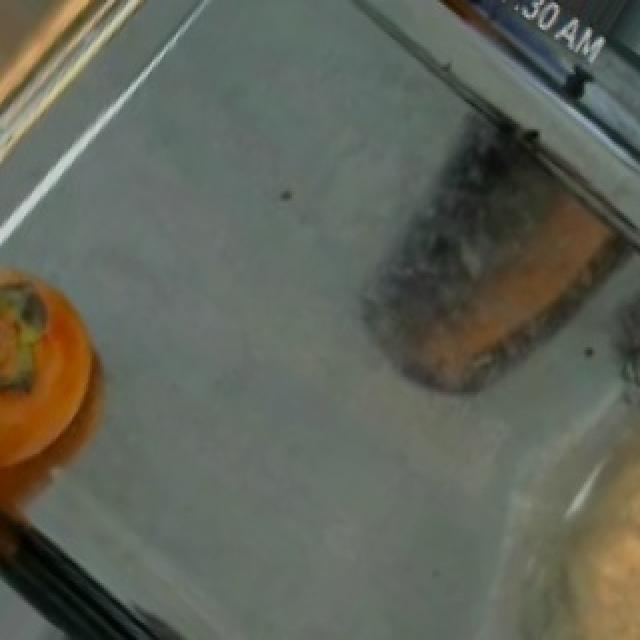Fruit: (0, 246, 124, 558)
